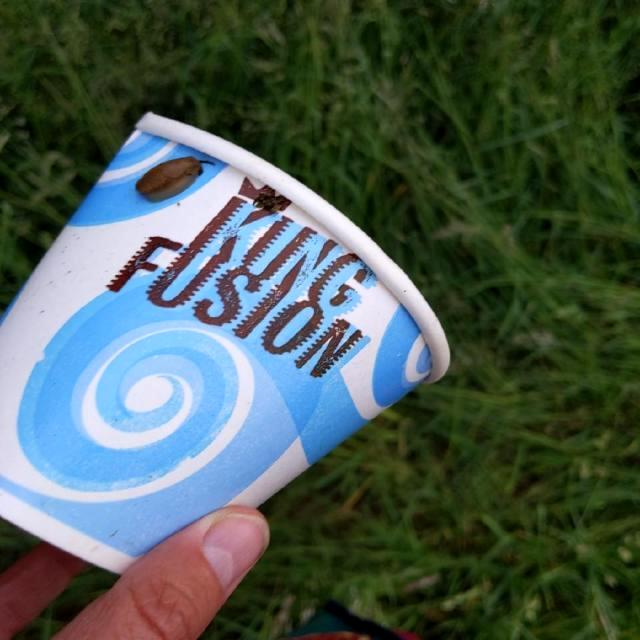Paper: (0, 106, 454, 578)
